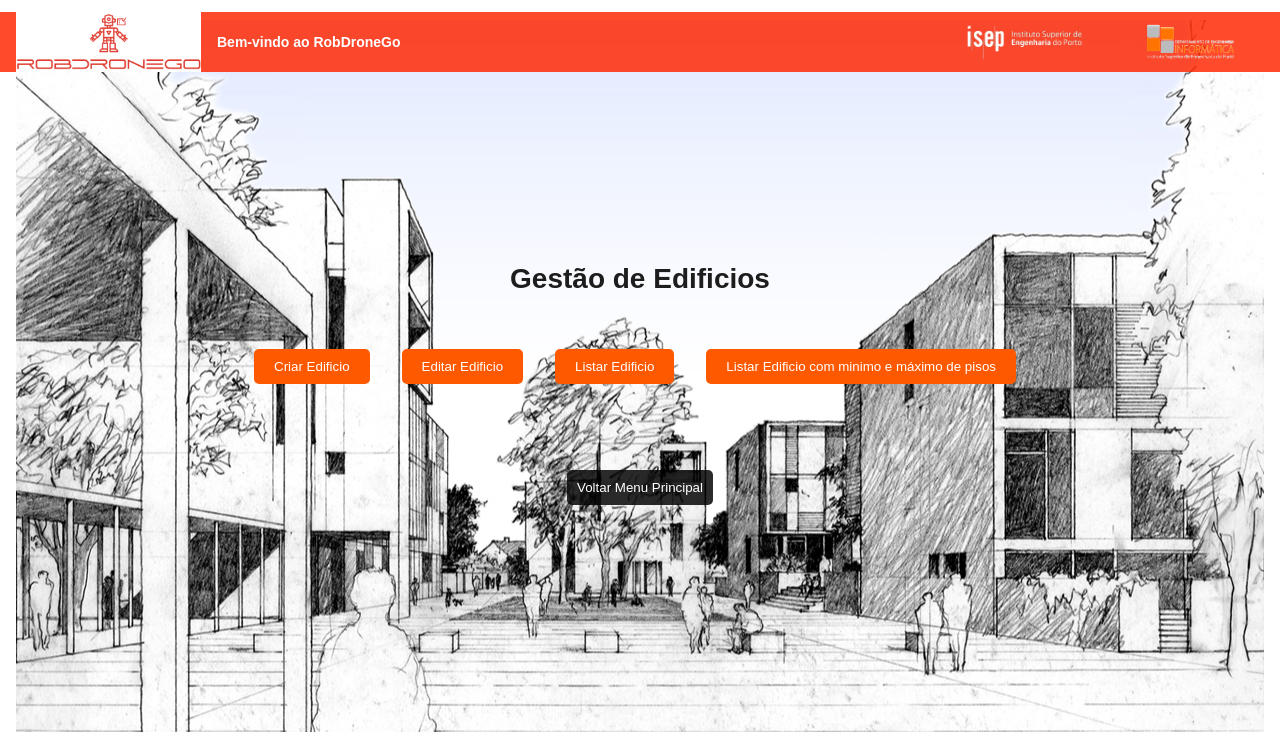
it: Edit Building Component › Trying to edit a building without writing an ID
The image size is (1280, 732).
Click the button with id "btnEditarEdificio". click: click(463, 367)
box: 402,349 -> 524,384
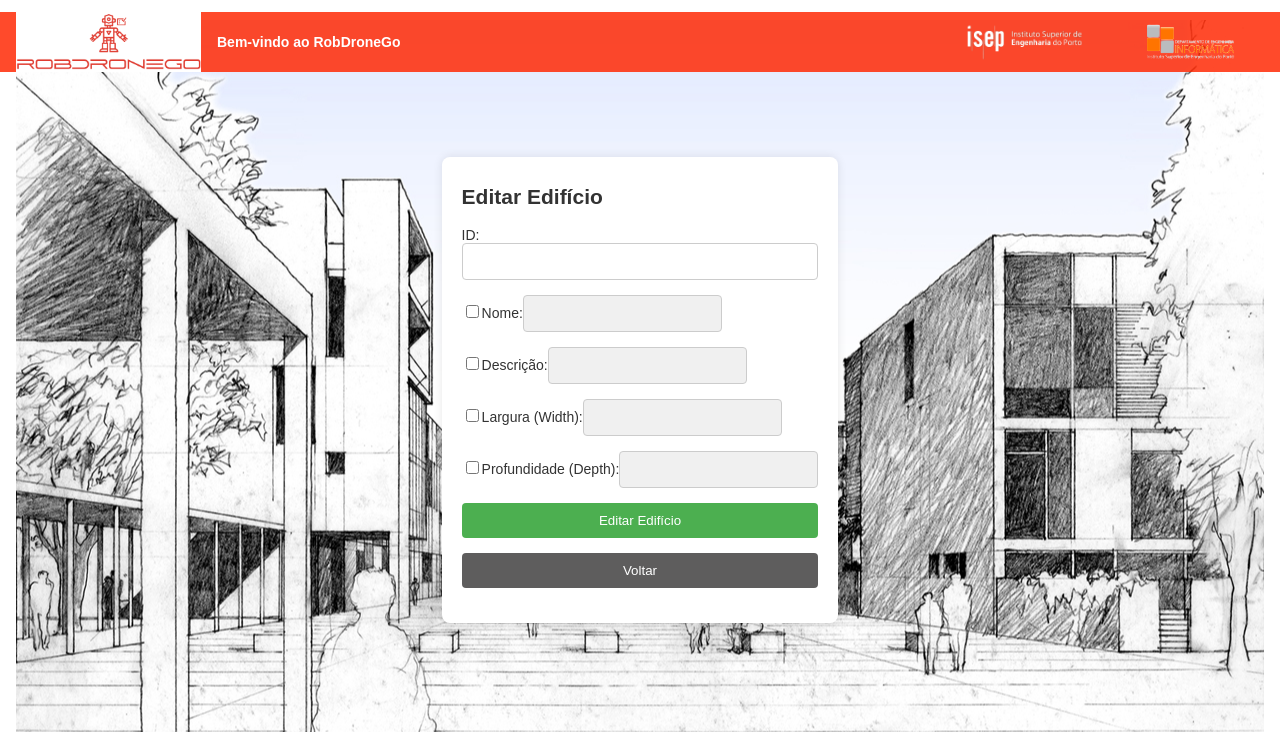
Expected: the element named "name" is enabled
Expected: the element named "description" is enabled
Click the checkbox with id "widthCheckbox". click: click(473, 416)
box: 466,409 -> 479,422
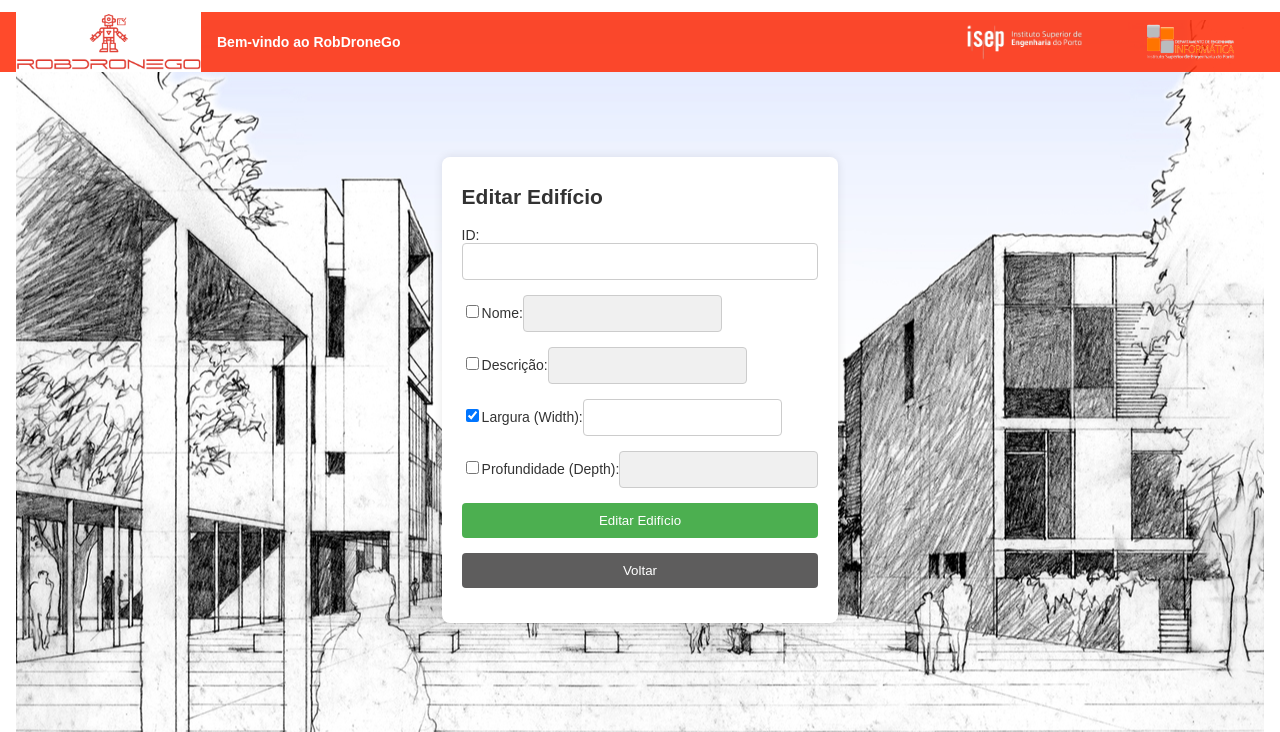
Click the checkbox with id "depthCheckbox". click: click(473, 468)
box: 466,461 -> 479,474
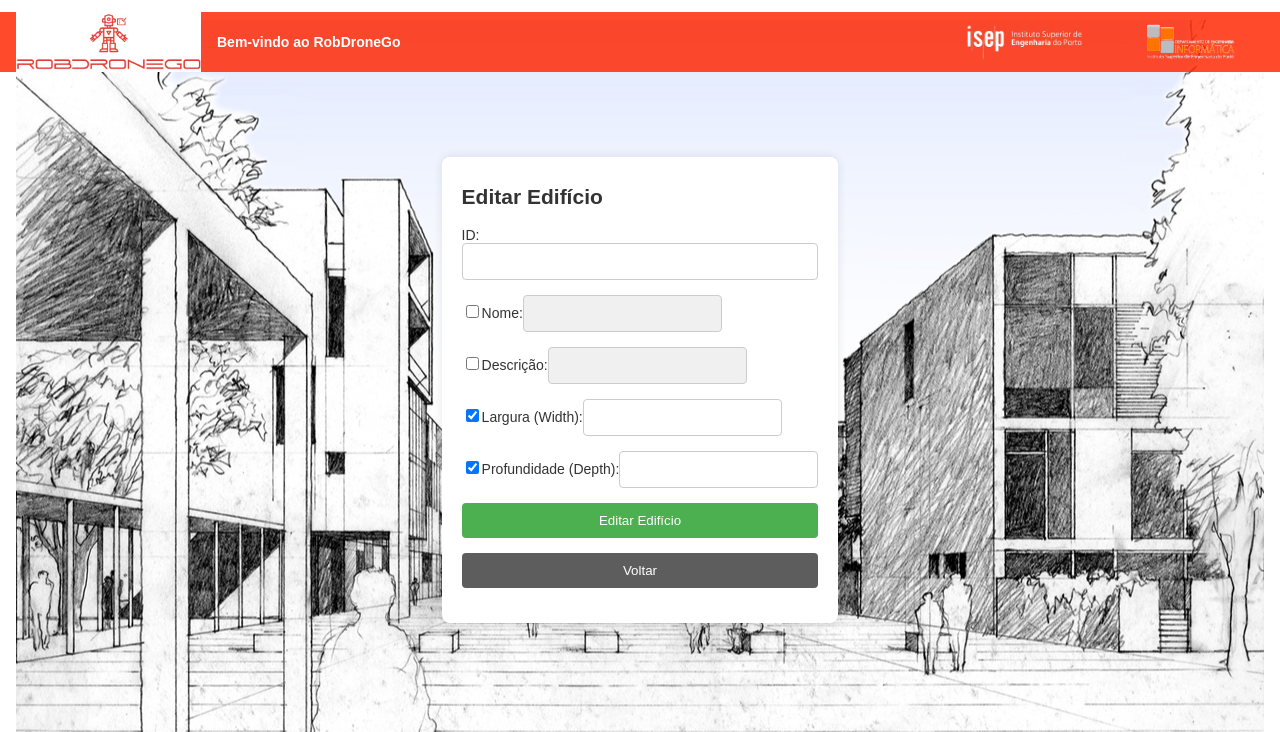
Expected: the element named "name" is enabled
Expected: the element named "description" is enabled
Type "5" into the number field named "width" next to "Largura (Width):". click: (683, 418)
box: 583,399 -> 782,436
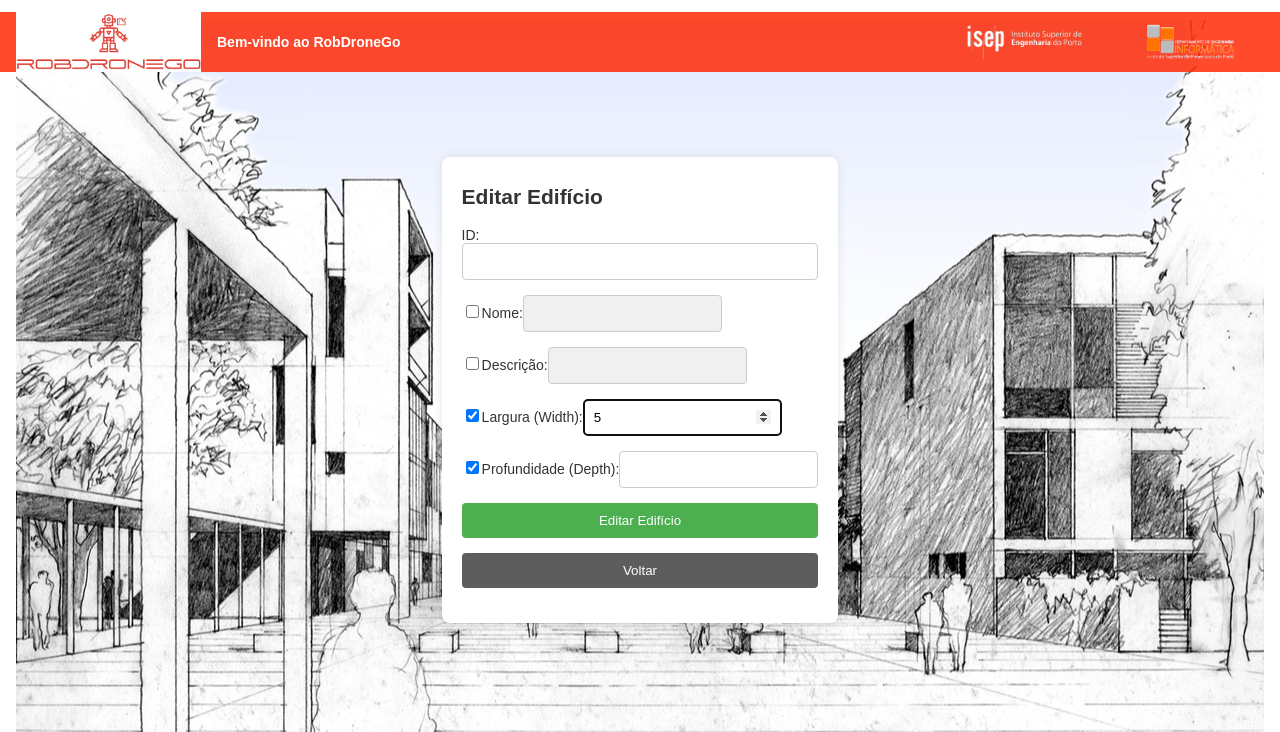
Type "10" into the number field named "depth" next to "Profundidade (Depth):". click: (719, 470)
box: 619,451 -> 818,488
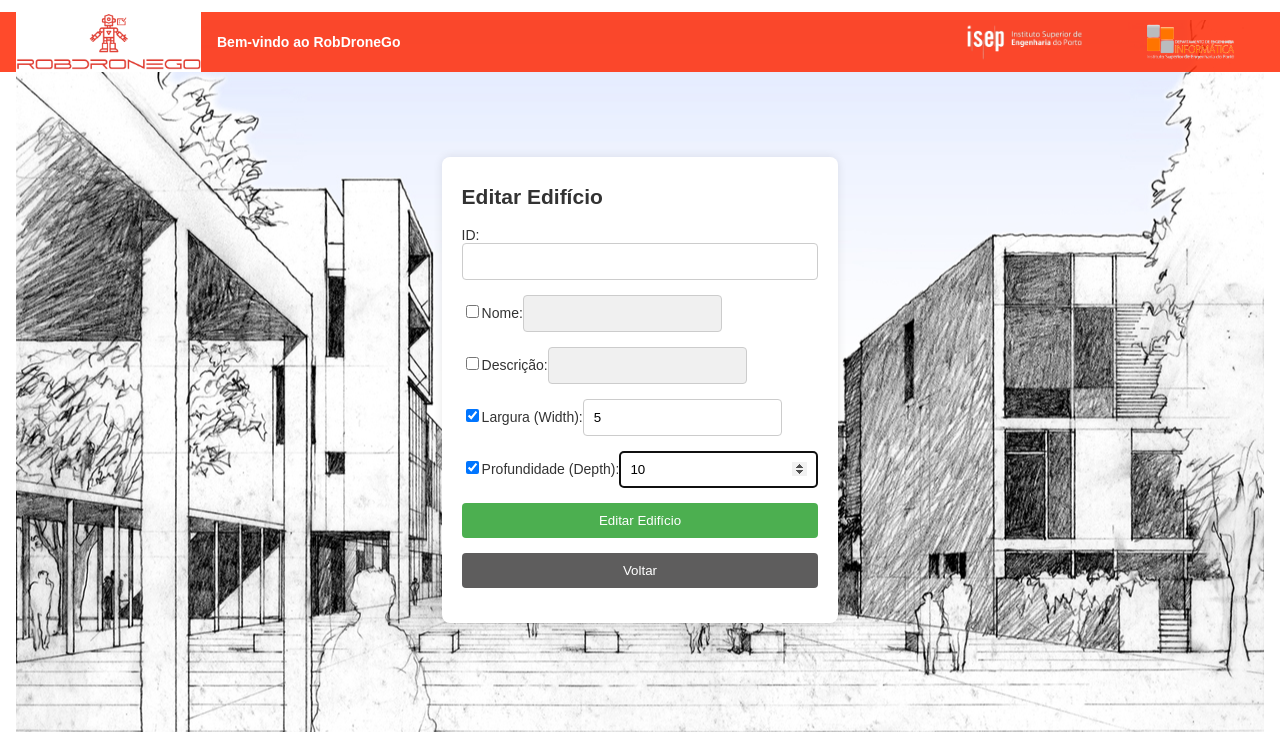
Submit the form, box 462,217 -> 819,603
Click the button with id "btnEditarEdificio". click: click(641, 521)
box: 462,503 -> 819,538
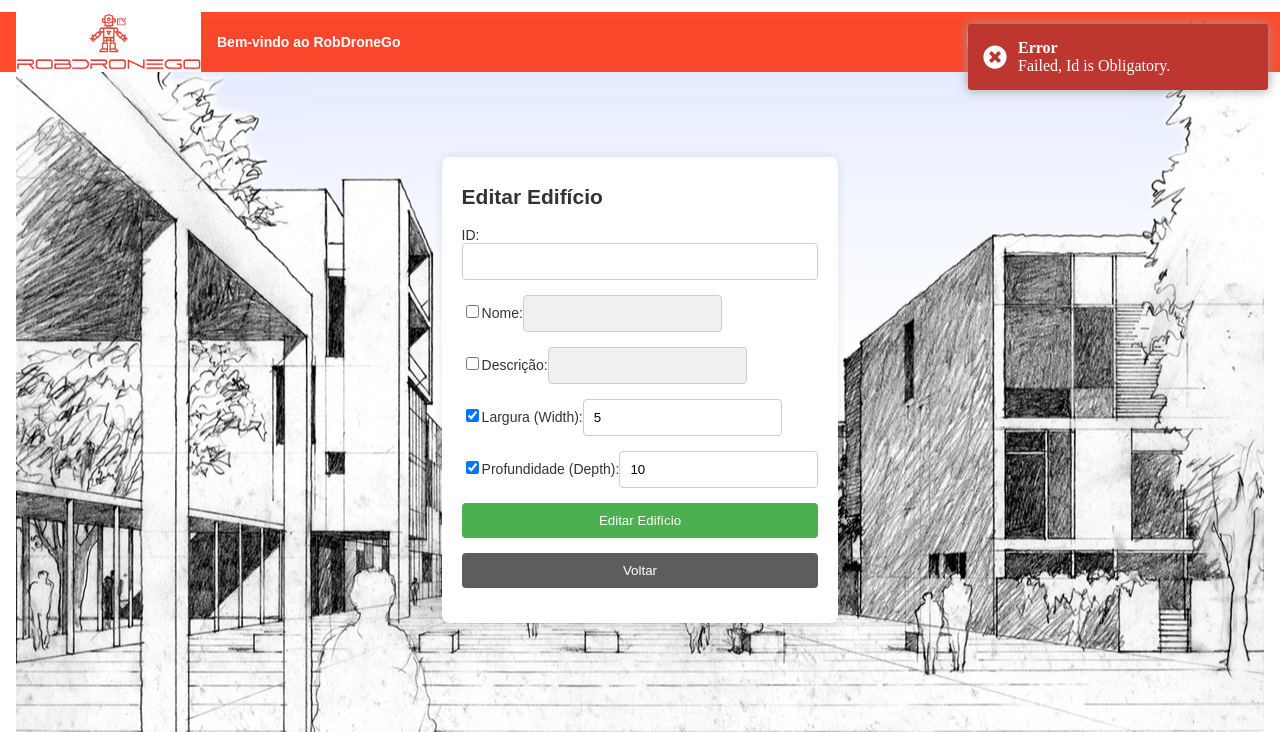
Expected: the element with class "toast-error" is shown, 968,24 -> 1268,90
